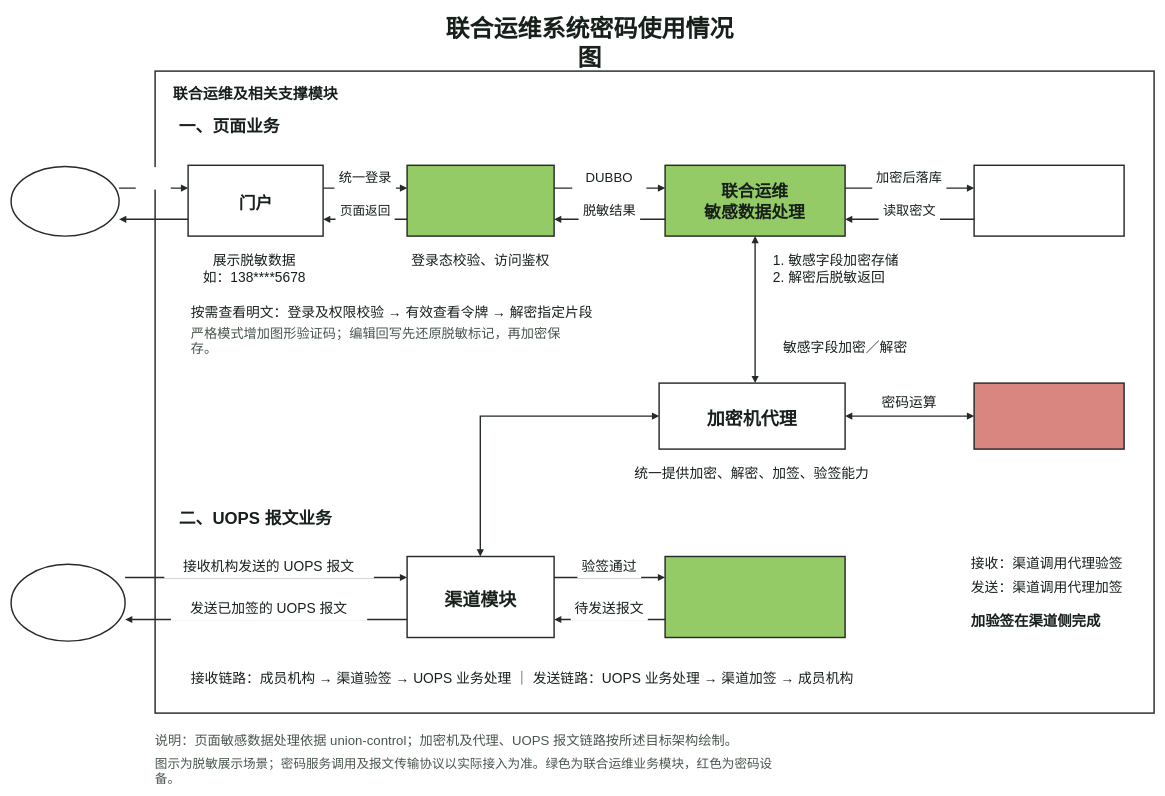
Some shapes in this 1165 by 796 pixel diagram are drawn without their labels. Here are the shapes that lost their labels. From the top down, the centre of each, then its label:
the point at 152,178: 访问
the point at 65,201: 页面用户
the point at 480,200: 联合运维页面 Web 接入
the point at 1049,200: 数据库 （敏感字段密文）
the point at 566,401: 调用加签／验签
the point at 1049,416: 加密机
the point at 68,602: 成员机构
the point at 755,596: 联合运维 UOPS 报文处理
